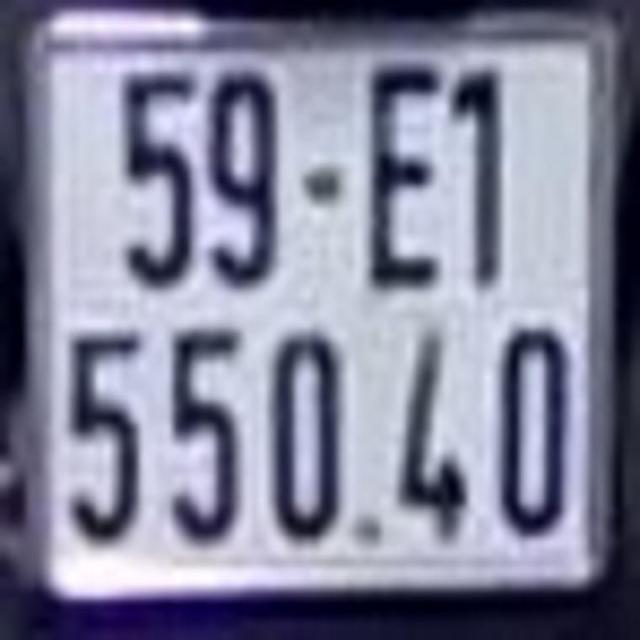0: (490, 314, 578, 543), (264, 329, 343, 544)
1: (452, 54, 507, 284)
4: (388, 323, 474, 544)
5: (164, 315, 247, 544), (115, 62, 197, 287), (65, 321, 144, 546)
9: (206, 64, 282, 296)
E: (364, 43, 448, 287)
